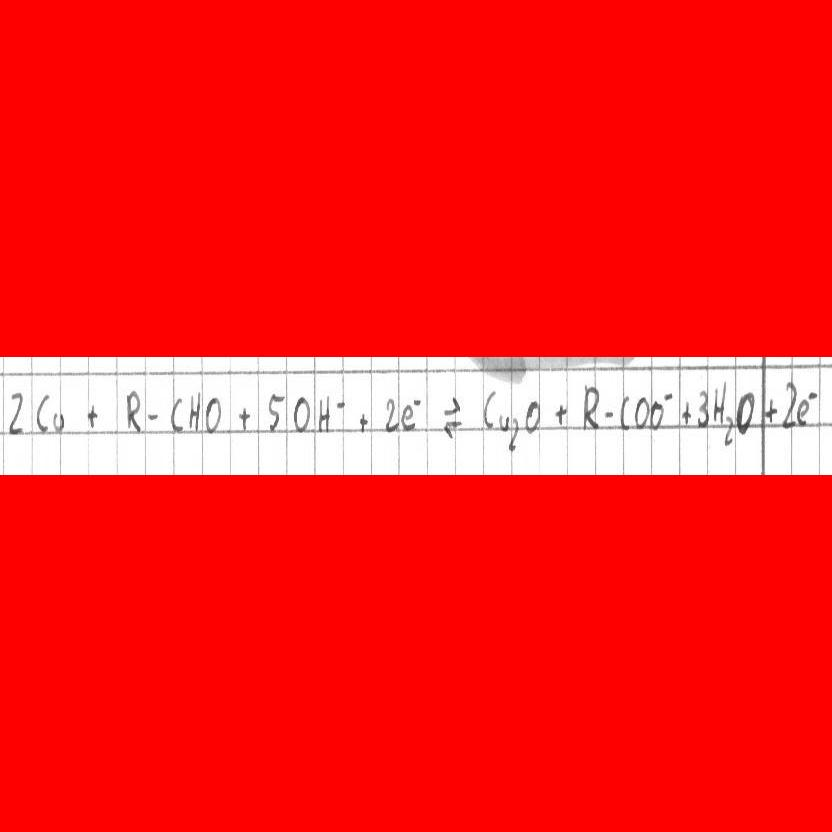Char: (440, 394, 461, 442), (124, 389, 144, 434), (735, 392, 755, 434), (265, 389, 284, 433), (34, 392, 53, 434), (6, 390, 23, 436), (481, 388, 499, 430), (583, 385, 599, 431), (782, 380, 797, 427), (203, 394, 221, 433), (382, 395, 399, 433), (314, 393, 330, 433), (713, 381, 727, 426), (522, 399, 538, 436), (169, 395, 185, 431), (294, 395, 309, 433), (188, 393, 202, 430), (400, 403, 418, 431), (696, 390, 709, 428), (620, 394, 634, 428), (634, 397, 649, 427), (649, 400, 664, 430), (508, 417, 520, 452), (764, 398, 778, 426), (796, 398, 810, 426), (680, 399, 693, 426), (554, 400, 568, 425), (332, 395, 346, 419), (85, 405, 99, 429), (603, 403, 618, 425), (237, 405, 249, 431), (724, 414, 734, 445), (358, 411, 370, 435), (52, 412, 64, 434), (146, 409, 159, 429), (498, 412, 510, 432), (806, 390, 818, 402), (663, 391, 673, 402), (412, 398, 421, 406)
